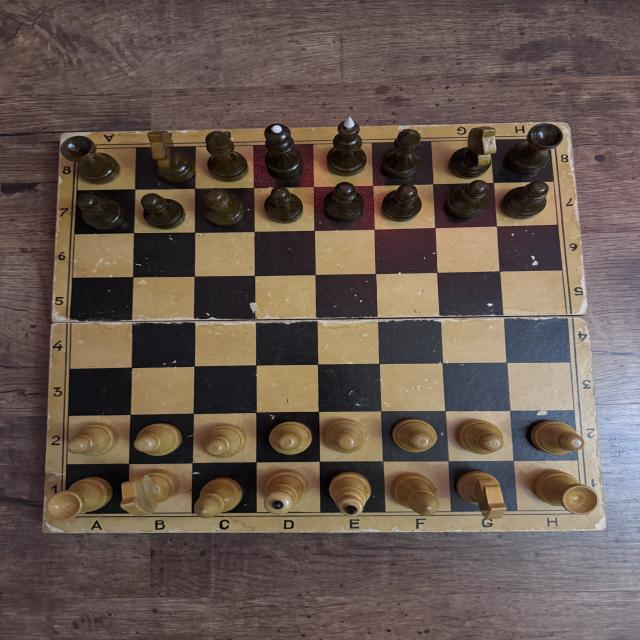black-bishop: (380, 128, 428, 181), (203, 129, 250, 182)
black-king: (322, 116, 370, 176)
black-knight: (145, 131, 196, 183), (448, 126, 498, 179)
black-pawn: (73, 193, 125, 231), (500, 182, 551, 219), (138, 192, 187, 230), (321, 182, 365, 224), (443, 180, 489, 220), (380, 184, 425, 221), (203, 190, 244, 227), (263, 187, 303, 223)
black-queen: (260, 123, 308, 180)
black-rook: (504, 122, 564, 176), (61, 135, 121, 184)
white-bishop: (391, 472, 441, 517), (192, 478, 243, 519)
white-king: (326, 472, 372, 516)
white-knight: (456, 467, 511, 520), (118, 470, 180, 515)
white-pawn: (454, 417, 507, 455), (528, 420, 583, 456), (65, 423, 119, 457), (391, 417, 438, 455), (131, 423, 183, 457), (199, 424, 246, 458), (268, 422, 314, 455), (322, 420, 367, 453)
white-queen: (259, 470, 310, 514)
white-rook: (532, 468, 599, 515), (45, 476, 111, 520)
